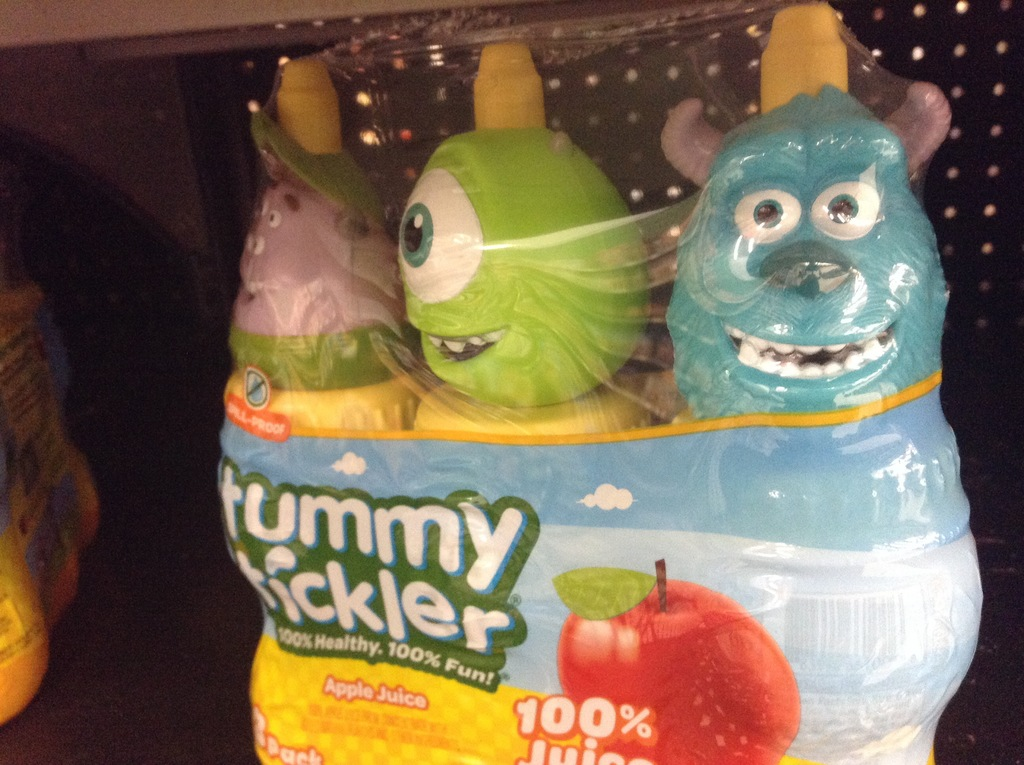Apple: (555, 551, 804, 764)
